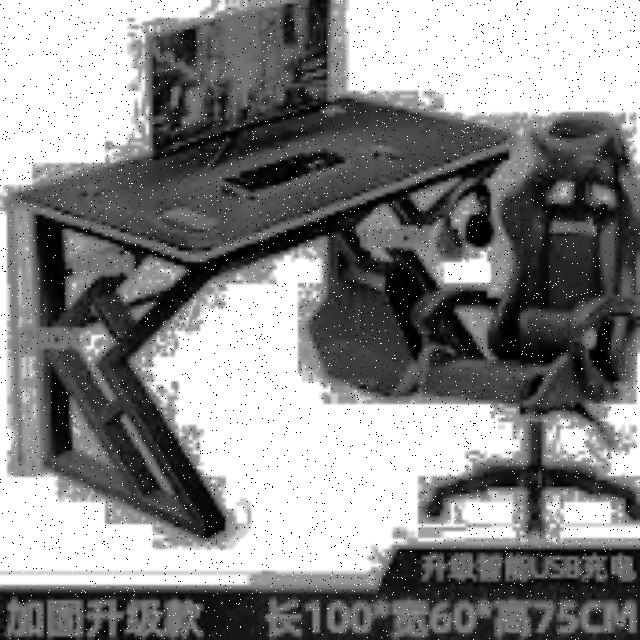book: (382, 112, 640, 534)
table: (4, 91, 516, 538)
